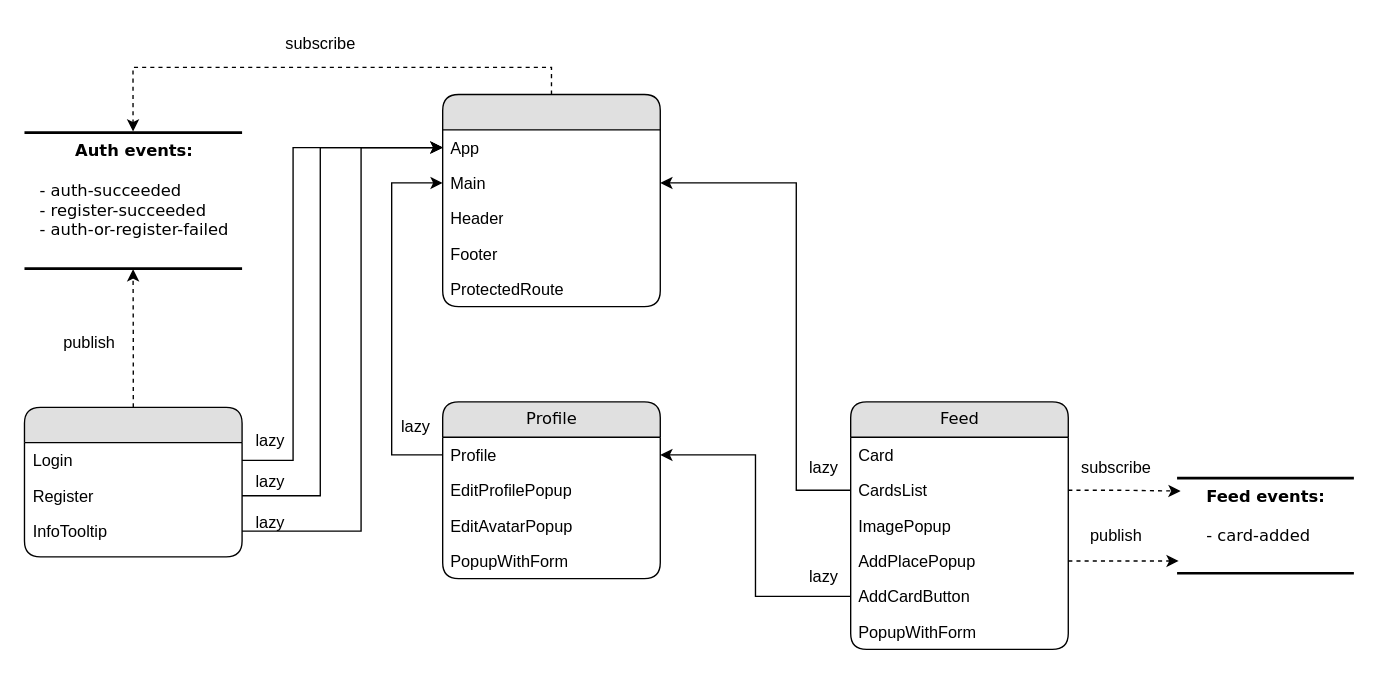
This 1379x676 diagram has some shape labels left out. The shapes that lost their labels are listed below. From the top down, each one's box as (x1, y1, x2, y2) in pixels, then its label:
(441, 93, 660, 307): Host
(23, 406, 242, 557): Auth
